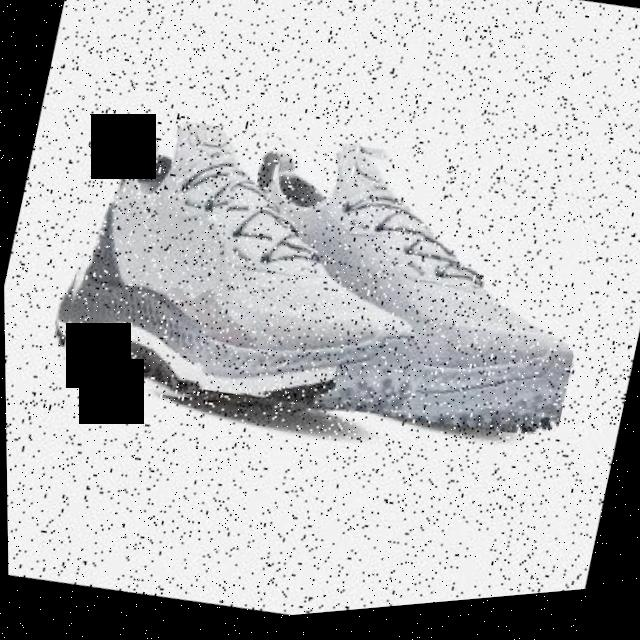shoe: (180, 106, 613, 475), (39, 86, 456, 465)
